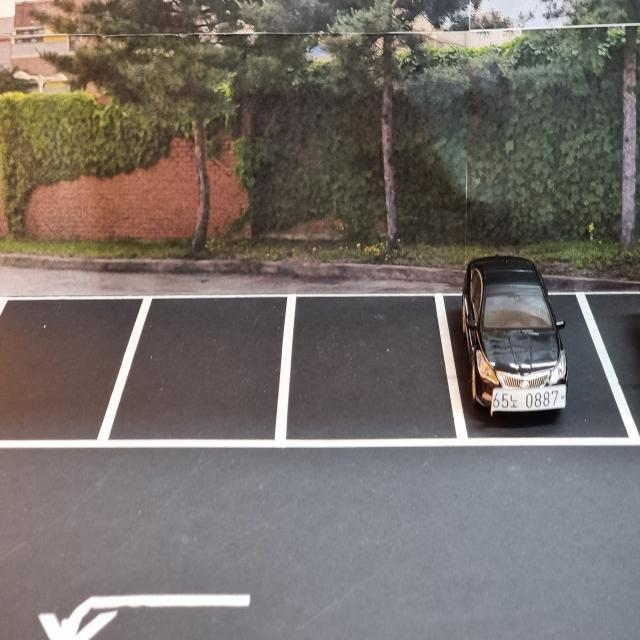empty: (278, 292, 462, 454), (117, 294, 296, 456), (1, 294, 134, 456)
occupied: (460, 261, 570, 428)
